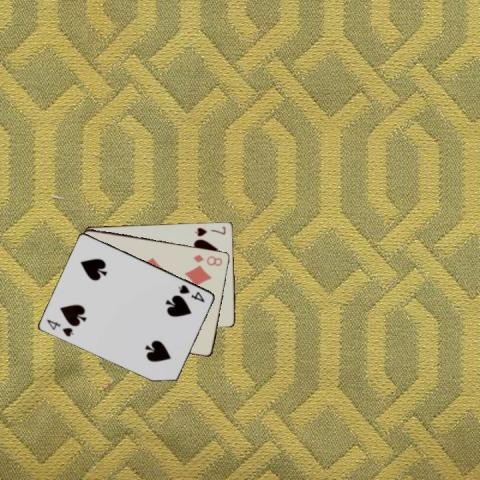4s: (44, 316, 75, 338), (175, 282, 207, 303)
7s: (192, 224, 227, 238)
8d: (191, 252, 224, 268)
